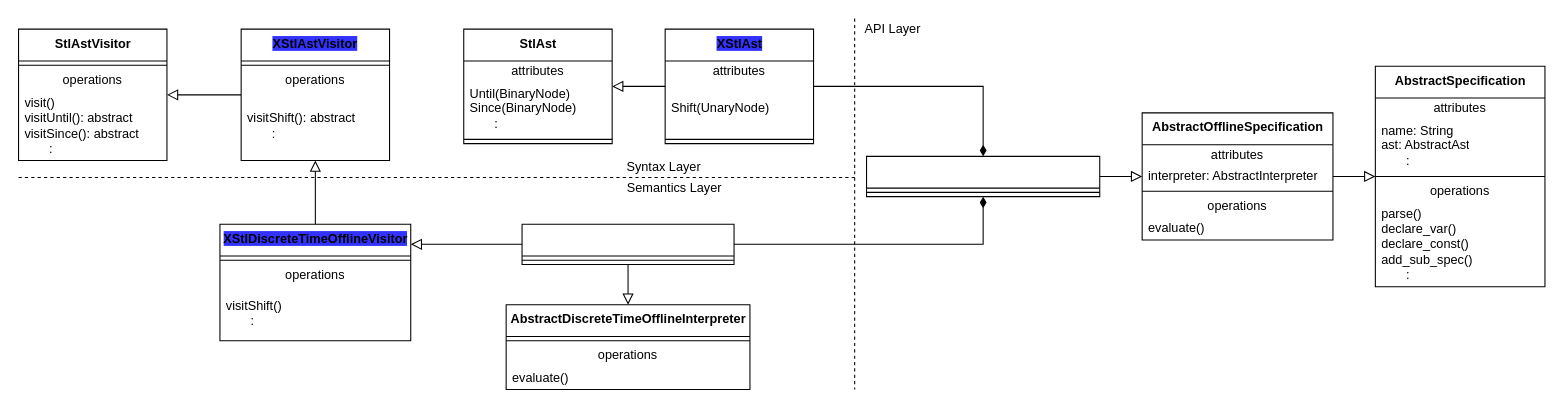
This 1563x409 diagram has some shape labels left out. Each missing label, with the centre of its shape:
"XStl Discrete TimeOffline Interpreter" belongs at pixel 627 243.
"XStlDiscreteTimeOfflineSpecification" belongs at pixel 982 176.
